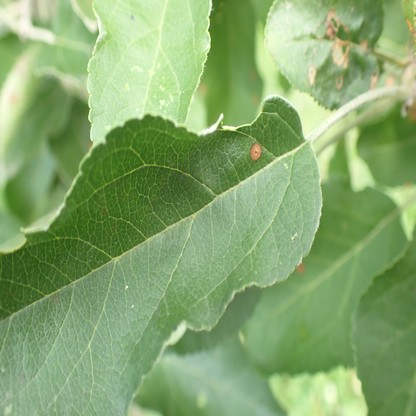frogeye_leaf_spot: (308, 10, 379, 90), (250, 143, 261, 161)
